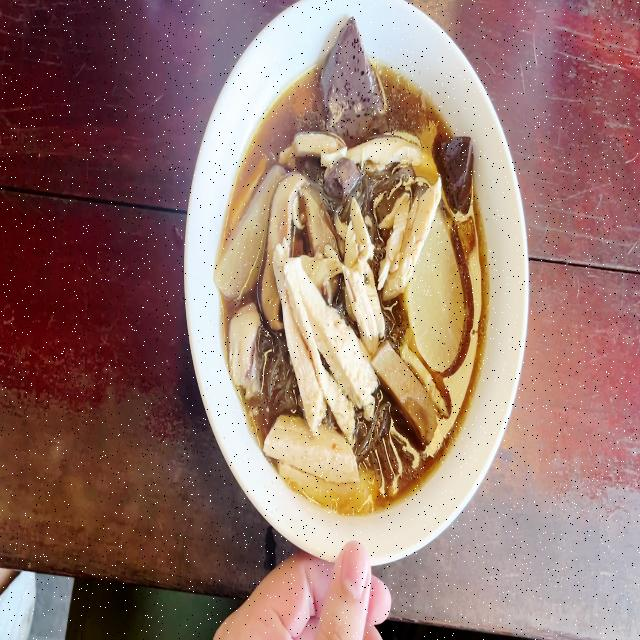boiled_chicken_blood_jelly: (330, 23, 376, 138), (438, 126, 479, 208), (324, 162, 357, 197)
chicken_shredded: (278, 255, 360, 428), (268, 417, 373, 520), (346, 199, 386, 351), (292, 126, 434, 167), (386, 185, 426, 284), (230, 304, 260, 392)
daikon_radish: (213, 169, 279, 301), (416, 228, 466, 370)
noodle: (227, 56, 483, 499)
